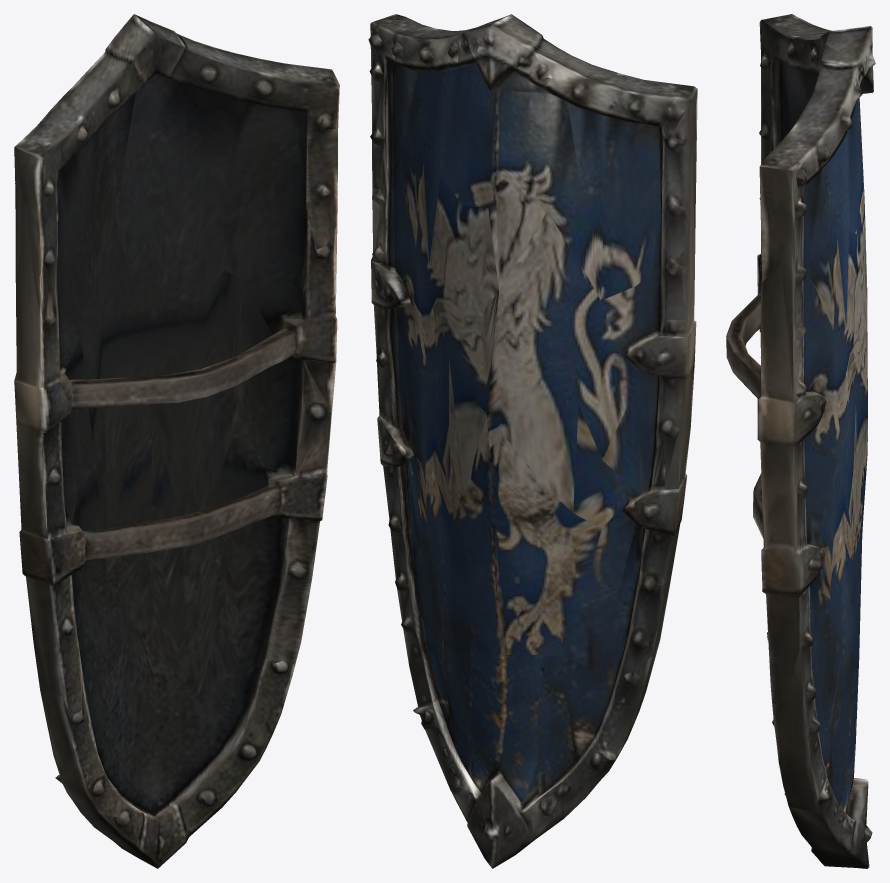
Rendered from tower_blue_lion.glb.
3 views of the same model, side by side, from view 1: azimuth 30°, elevation 25°; view 2: azimuth 150°, elevation 25°; view 3: azimuth 270°, elevation 25° (orthographic).
Visible parts, largest first — view 1: tower_blue_lion; view 2: tower_blue_lion; view 3: tower_blue_lion.
Boxes of the visible parts, left/top/right/bottom form: tower_blue_lion: left=14, top=14, right=339, bottom=868; tower_blue_lion: left=368, top=14, right=697, bottom=868; tower_blue_lion: left=726, top=14, right=875, bottom=868.
Size of the model in its own units: 0.4454 by 1.12 by 0.1809.
1 material, 1 textured.
